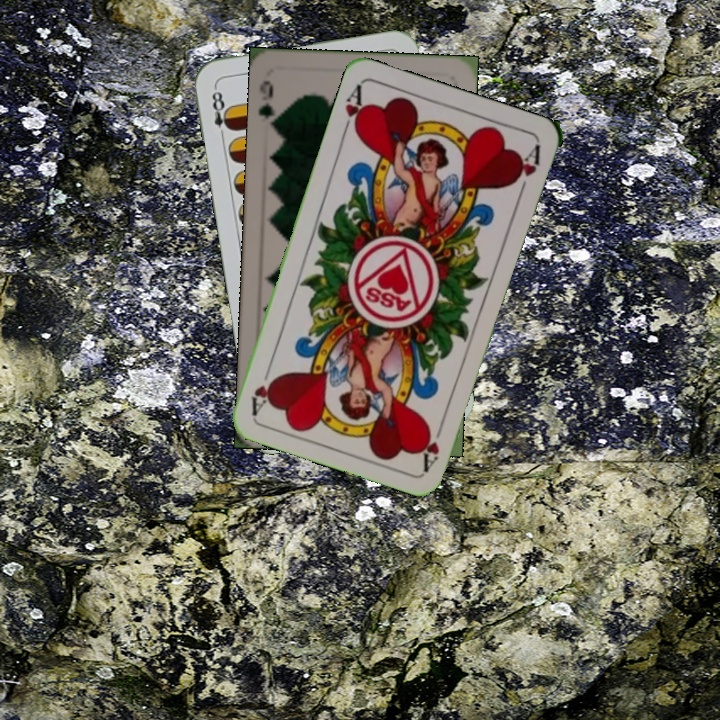E8: (208, 83, 235, 142)
G9: (254, 76, 281, 132)
HA: (338, 81, 369, 139), (419, 415, 447, 472)
